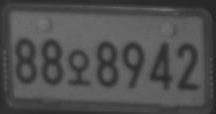2: (176, 43, 201, 91)
4: (149, 42, 174, 90)
8: (40, 38, 64, 85), (96, 40, 119, 88), (14, 38, 37, 84)
9: (121, 42, 146, 90)
오: (67, 49, 90, 87)
